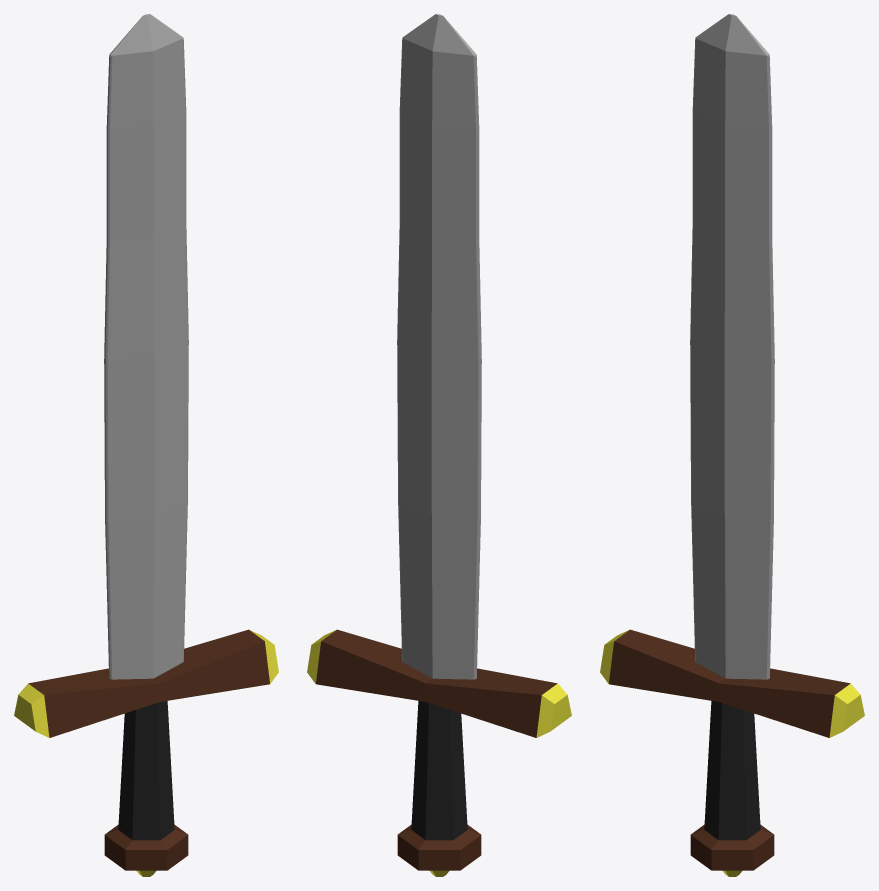
The model's file is Sword.fbx.
3 views of the same model, side by side, from view 1: azimuth 30°, elevation 25°; view 2: azimuth 150°, elevation 25°; view 3: azimuth 330°, elevation 25° (orthographic).
Parts seen in each view (by area): view 1: Sword; view 2: Sword; view 3: Sword.
Boxes of the visible parts, x1,y1,x2,y2 form: Sword: (14, 14, 278, 876); Sword: (307, 14, 571, 876); Sword: (600, 14, 864, 876).
Size of the model in its own units: 73.87 by 249 by 22.08.
